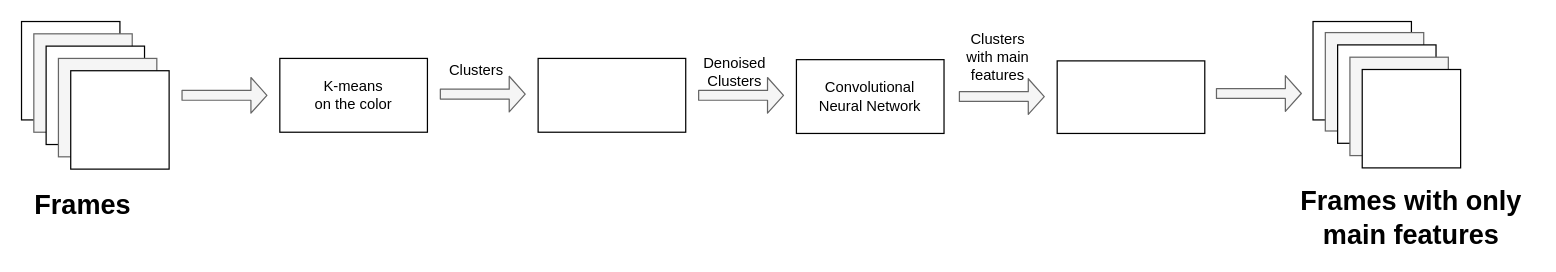
The diagram is 1556 pixels wide and 272 high, and some of its shapes have lost their labels. The centre of each missing label's shape, as x and y in pixels:
Connected components: the point at 1130,96
Second K-means on the color: the point at 611,94
